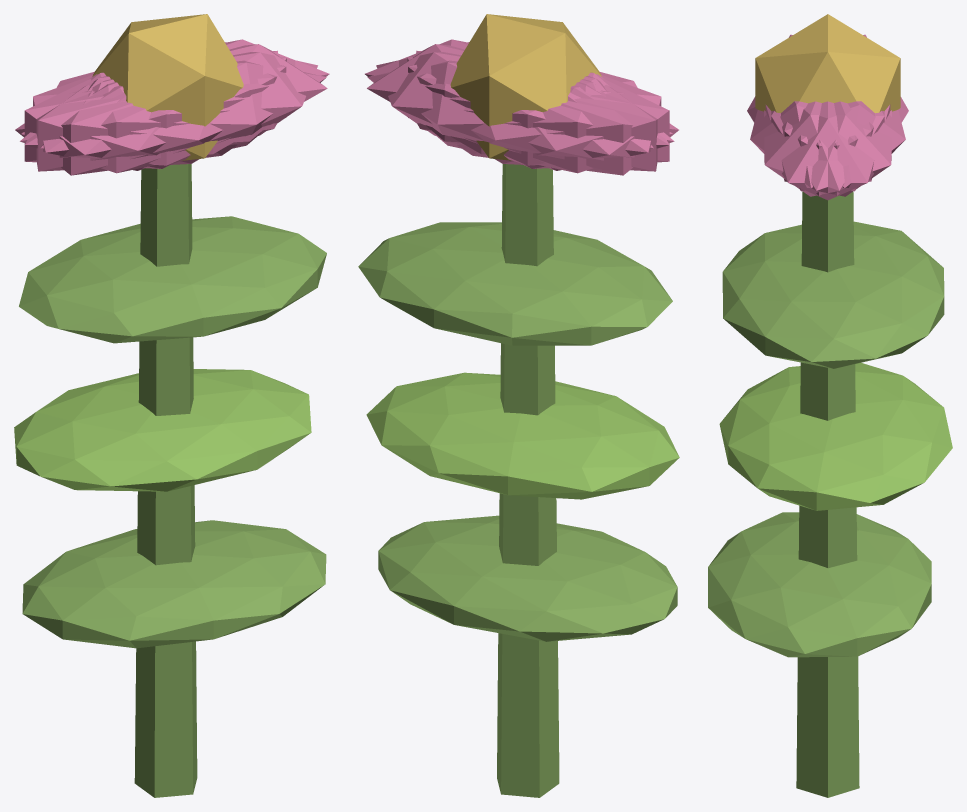
Rendered from gardenia-mutabilis.glb.
The picture shows the model from 3 angles, left to right: view 1: azimuth 30°, elevation 25°; view 2: azimuth 150°, elevation 25°; view 3: azimuth 270°, elevation 25°; orthographic projection.
Parts seen in each view (by area): view 1: leaf0, leaf2, leaf1, stem, center, petal1, petal6, petal2, petal5, petal7, petal0, petal4 (+2 smaller); view 2: leaf1, leaf2, leaf0, stem, center, petal8, petal3, petal7, petal4, petal2, petal0, petal5 (+2 smaller); view 3: leaf2, leaf1, leaf0, stem, center, petal0, petal5, petal4, petal1, petal8.
Boxes of the visible parts, x1=… form: leaf0: x1=22, y1=520, x2=326, y2=648; leaf2: x1=19, y1=216, x2=326, y2=343; leaf1: x1=14, y1=369, x2=311, y2=491; stem: x1=134, y1=164, x2=197, y2=797; center: x1=92, y1=14, x2=243, y2=160; petal1: x1=20, y1=60, x2=326, y2=173; petal6: x1=15, y1=74, x2=236, y2=175; petal2: x1=36, y1=50, x2=277, y2=171; petal5: x1=41, y1=52, x2=317, y2=165; petal7: x1=24, y1=57, x2=286, y2=168; petal0: x1=92, y1=44, x2=327, y2=154; petal4: x1=21, y1=39, x2=329, y2=145; leaf1: x1=366, y1=372, x2=679, y2=499; leaf2: x1=358, y1=222, x2=672, y2=345; leaf0: x1=378, y1=515, x2=677, y2=641; stem: x1=497, y1=164, x2=559, y2=797; center: x1=450, y1=14, x2=601, y2=160; petal8: x1=367, y1=60, x2=674, y2=173; petal3: x1=457, y1=74, x2=678, y2=175; petal7: x1=416, y1=50, x2=657, y2=171; petal4: x1=376, y1=52, x2=653, y2=165; petal2: x1=407, y1=57, x2=669, y2=168; petal0: x1=367, y1=44, x2=601, y2=154; petal5: x1=365, y1=39, x2=672, y2=145; leaf2: x1=722, y1=221, x2=944, y2=368; leaf1: x1=719, y1=363, x2=952, y2=510; leaf0: x1=708, y1=512, x2=931, y2=657; stem: x1=796, y1=191, x2=859, y2=797; center: x1=755, y1=14, x2=900, y2=113; petal0: x1=765, y1=101, x2=890, y2=200; petal5: x1=764, y1=101, x2=884, y2=196; petal4: x1=771, y1=101, x2=891, y2=196; petal1: x1=750, y1=101, x2=873, y2=188; petal8: x1=782, y1=101, x2=905, y2=188.
Bounding box in the file's own units: 0.1452 × 0.3498 × 0.1033.
